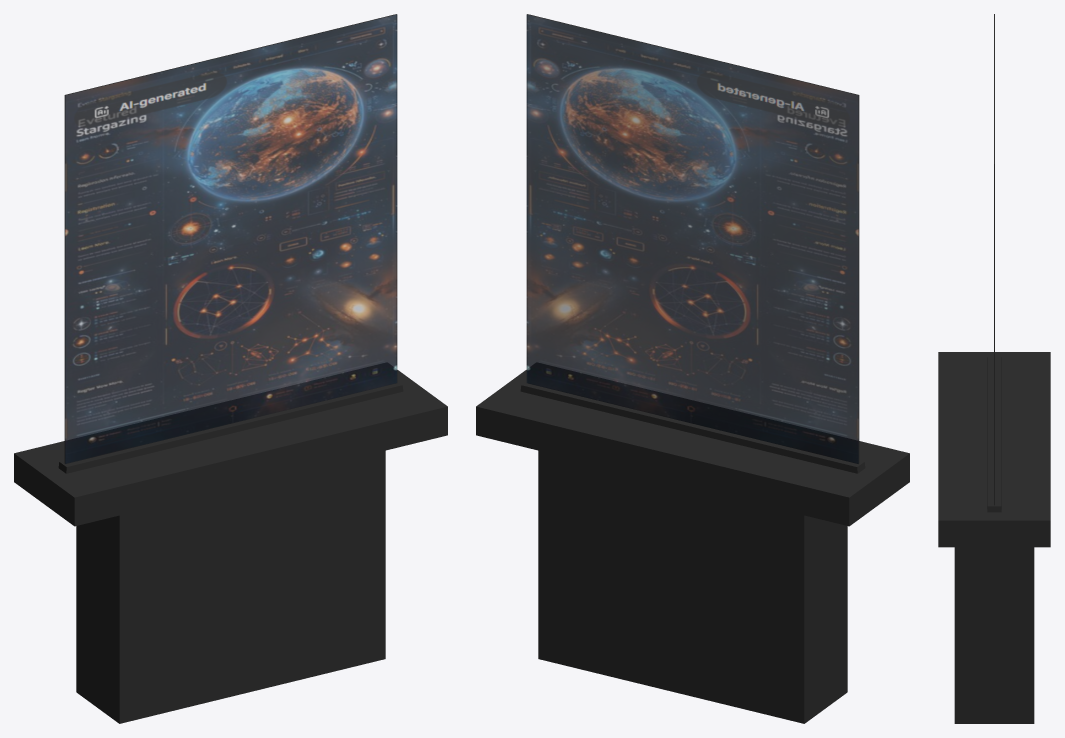
The model's file is big map computer.fbx.
3 views of the same model, side by side, from view 1: azimuth 30°, elevation 25°; view 2: azimuth 150°, elevation 25°; view 3: azimuth 270°, elevation 25° (orthographic). The views are drawn at different scales.
Visible parts, largest first — view 1: pCube2; view 2: pCube2; view 3: pCube2.
Boxes of the visible parts, bbox=[...] form: pCube2: bbox=[14, 14, 447, 723]; pCube2: bbox=[476, 14, 909, 723]; pCube2: bbox=[938, 14, 1050, 723].
Size of the model in its own units: 1.4 by 2.23 by 0.3941.
3 materials, 2 textured.
